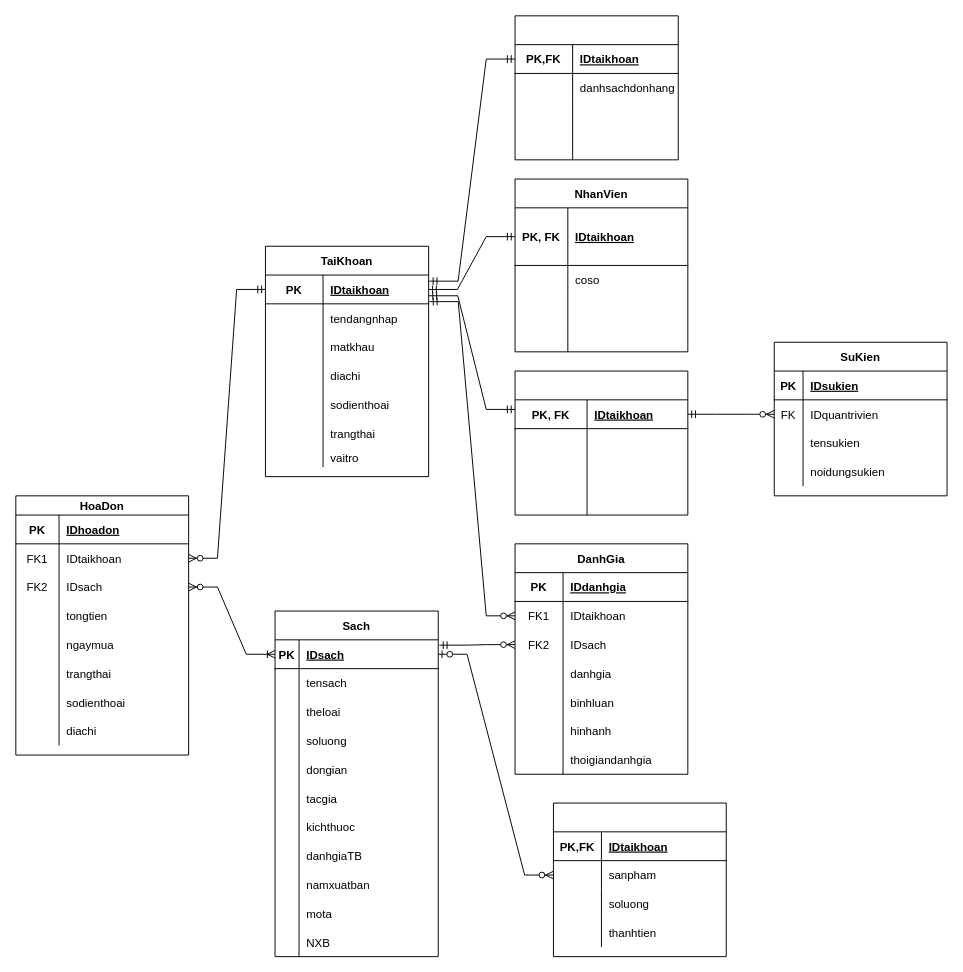
This 963x972 diagram has some shape labels left out. Each missing label, with the box of its shape:
GioHang: (552, 802, 726, 957)
KhachHang: (514, 15, 678, 160)
QuanTriVien: (514, 370, 688, 515)
